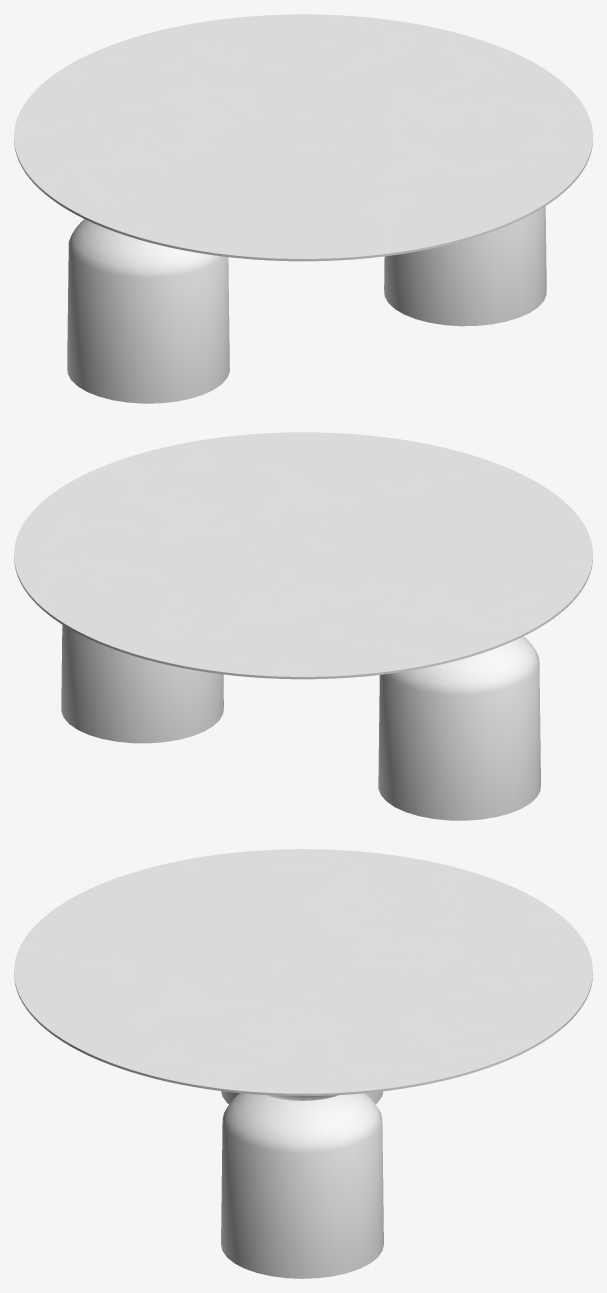
The model's file is purewhite_round_facet_tornado.glb.
3 renders of one model, top to bottom at view 1: azimuth 30°, elevation 25°; view 2: azimuth 150°, elevation 25°; view 3: azimuth 270°, elevation 25°, orthographic.
Visible parts, largest first — view 1: facet_round, tornado; view 2: facet_round, tornado; view 3: facet_round, tornado.
Part boxes in pixels (left/top/right/bottom): facet_round: left=14, top=14, right=592, bottom=261; tornado: left=67, top=206, right=546, bottom=403; facet_round: left=14, top=432, right=592, bottom=679; tornado: left=61, top=625, right=540, bottom=820; facet_round: left=14, top=849, right=592, bottom=1095; tornado: left=221, top=1091, right=383, bottom=1278.
Bounding box in the file's own units: 6.75 × 2.5 × 6.75.
1 material, 1 textured.
